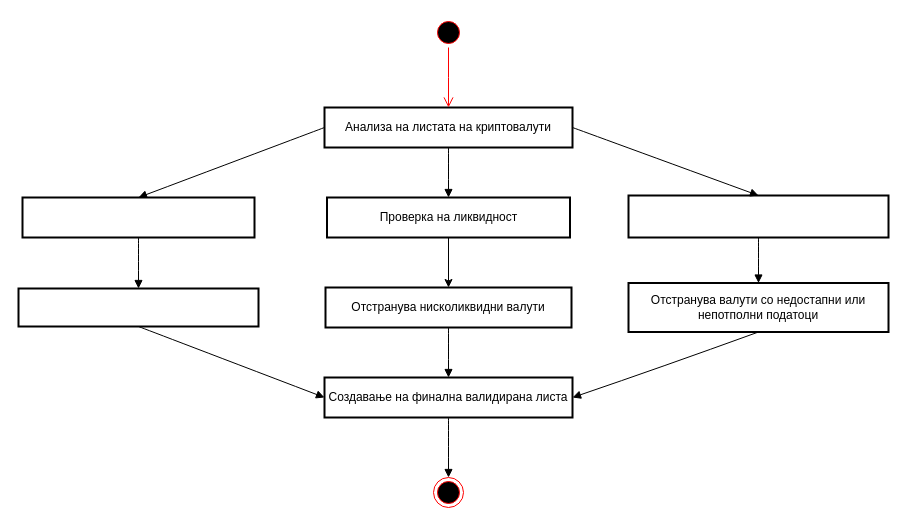
The diagram is 906 pixels wide and 525 high, and some of its shapes have lost their labels. The shapes that lost their labels are listed below. From the top down, each one's centre as x and y in pixels, then its label:
At point (138, 217): "Проверка за дупликати".
At point (758, 216): "Проверка за целосни податоци".
At point (138, 307): "Отстранува дупликати по симбол или ID".
